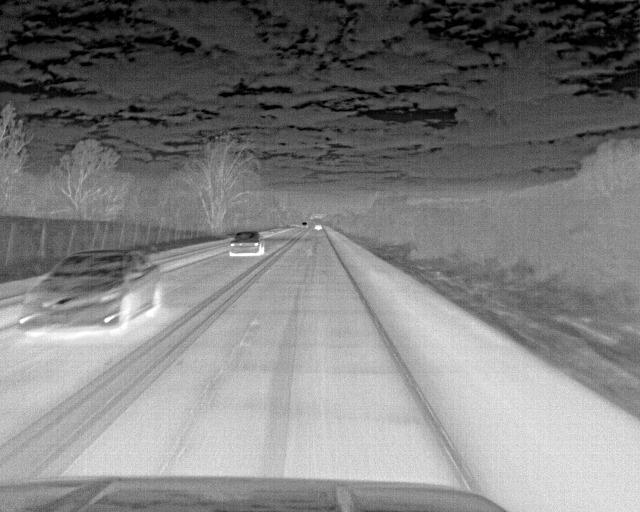car: (18, 248, 162, 335), (226, 230, 265, 258), (311, 221, 325, 233)
